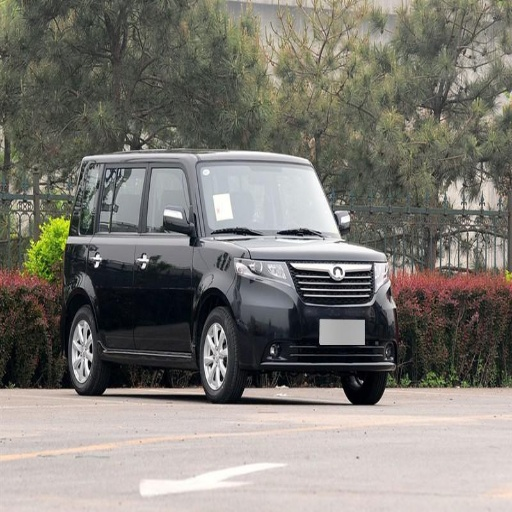front_bumper: (239, 260, 396, 369)
front_right_door: (134, 164, 198, 351)
hood: (232, 233, 383, 259)
